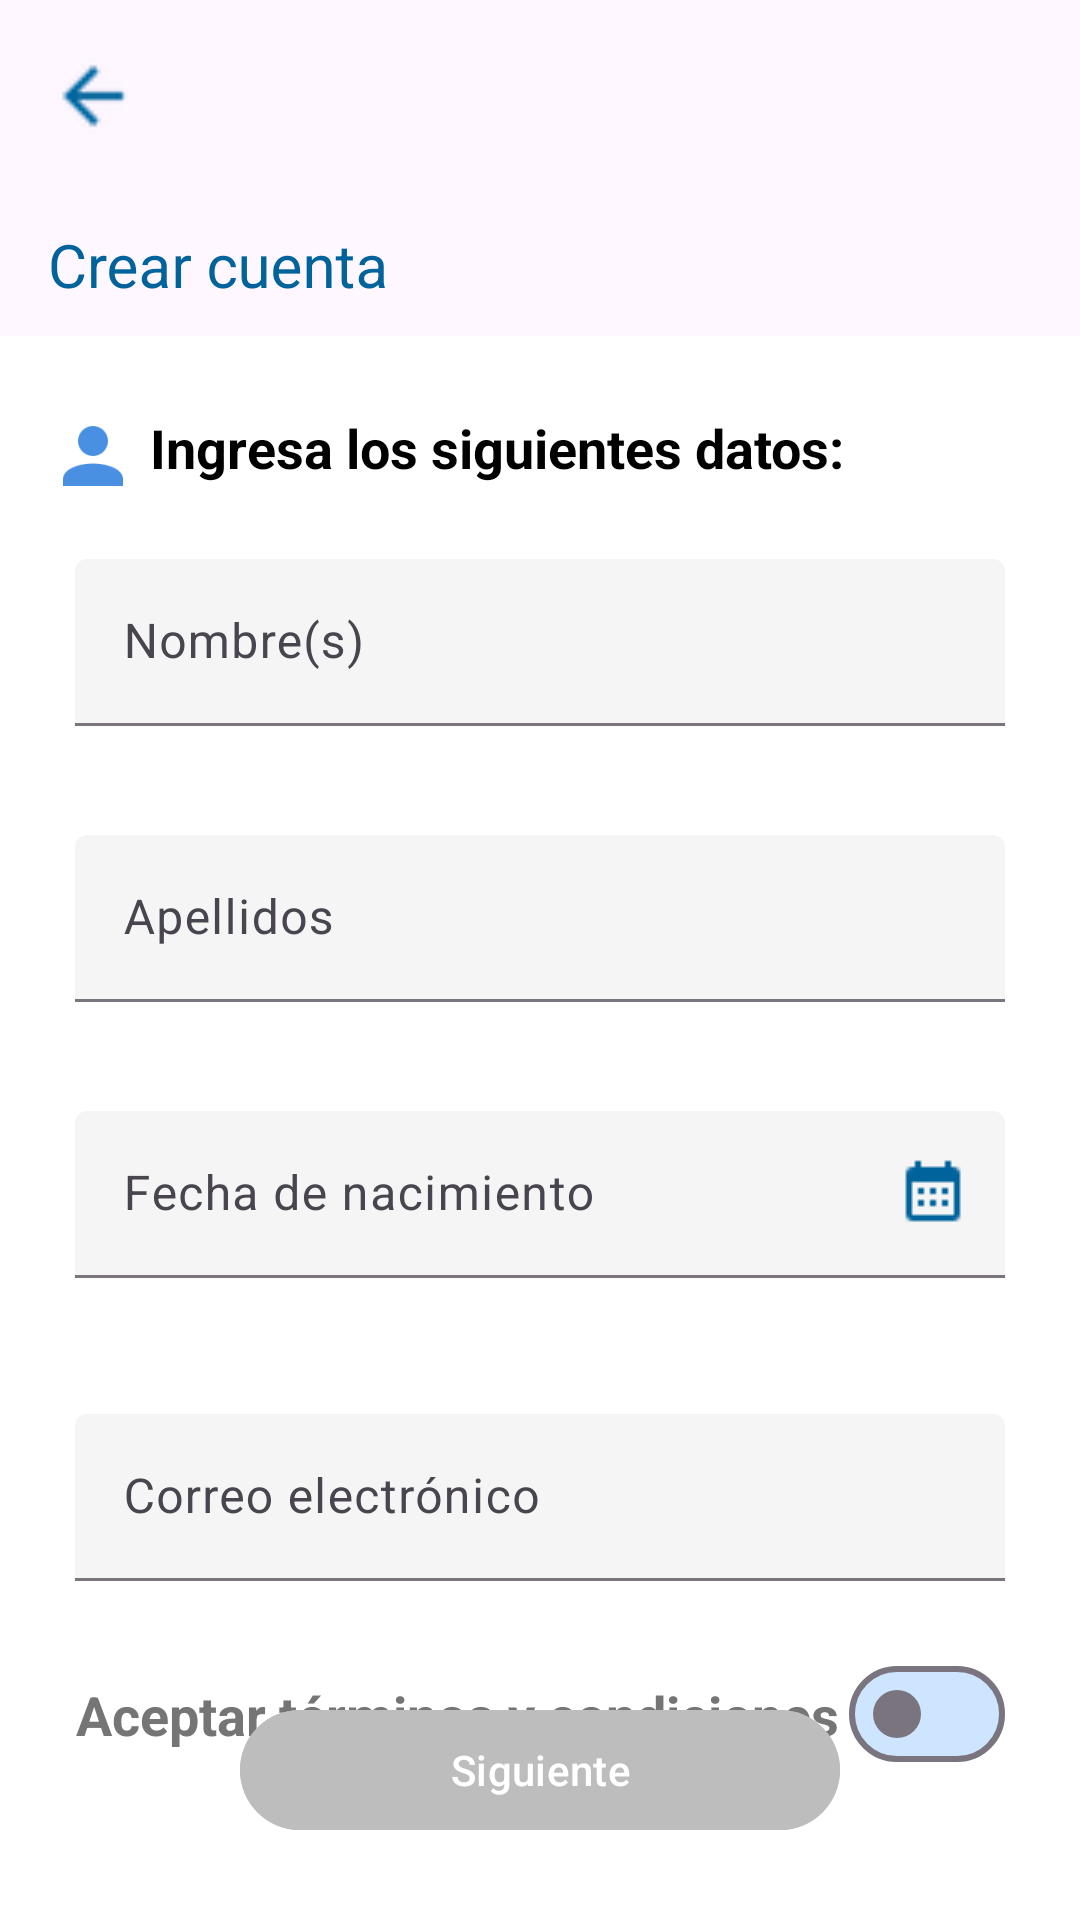

Icons on this 1080w x 1920h Android screen, each with its box as Rect(x1, y1, x2, y2):
user: Rect(63, 426, 123, 486)
